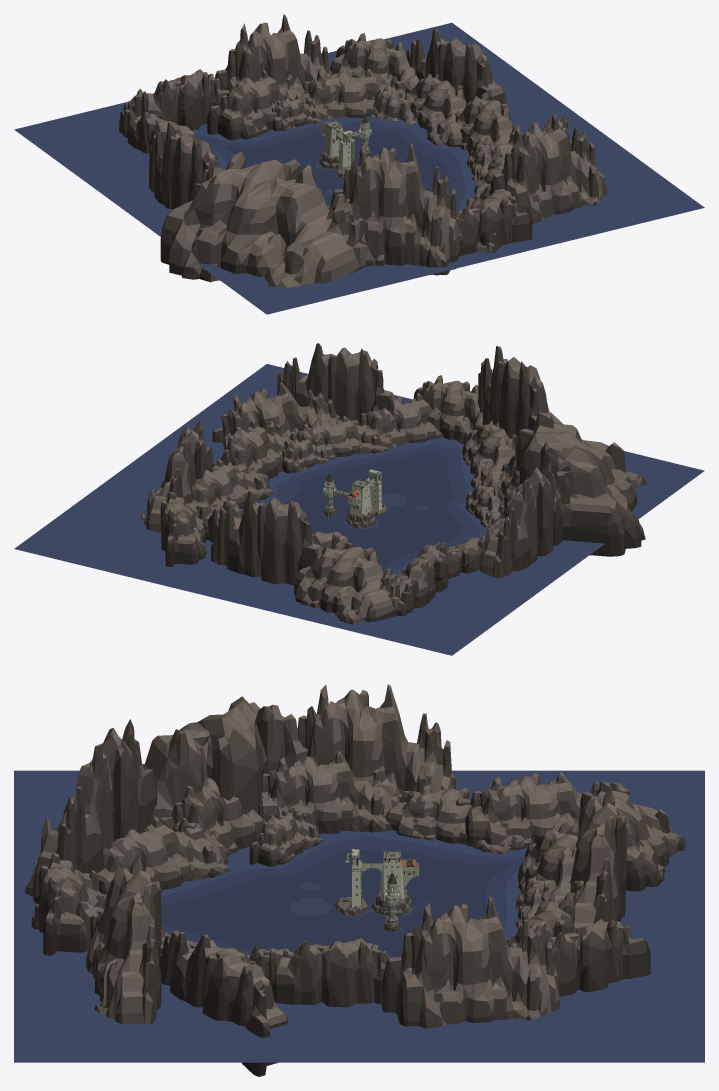
Rendered from narrowTowersAlt.glb.
The picture shows the model from 3 angles, top to bottom: view 1: azimuth 30°, elevation 25°; view 2: azimuth 150°, elevation 25°; view 3: azimuth 270°, elevation 25°; orthographic projection. The views are drawn at different scales.
Parts seen in each view (by area): view 1: water, Mball.024, Mball.027, Mball.018, Mball.006, Mball.052, Mball.015, Mball.009, Mball.011, Mball.002, Mball.025, Mball.013 (+8 smaller); view 2: water, Mball.024, Mball.006, Mball.011, Mball.018, Mball.009, Mball.027, Mball.022, Mball.015, Mball.014, Mball.025, Mball.019 (+10 smaller); view 3: water, Mball.015, Mball.024, Mball.009, Mball.027, Mball.018, Mball.022, Mball.001, Mball.019, Mball.010, Mball.006, Mball.026 (+10 smaller).
Part boxes in pixels (x1,y1,x2,y2): water: (14,22,704,314); Mball.024: (160,151,367,287); Mball.027: (330,143,459,275); Mball.018: (489,113,607,223); Mball.006: (215,14,332,94); Mball.052: (207,69,308,140); Mball.015: (406,29,506,104); Mball.009: (149,122,218,209); Mball.011: (123,69,229,130); Mball.002: (303,69,406,119); Mball.025: (457,198,532,255); Mball.013: (404,73,466,147); water: (14,364,704,655); Mball.024: (516,412,647,556); Mball.006: (211,491,322,585); Mball.011: (294,540,400,624); Mball.018: (277,343,394,420); Mball.009: (480,461,561,578); Mball.027: (478,346,553,438); Mball.022: (212,382,340,450); Mball.015: (141,421,213,532); Mball.014: (351,393,444,448); Mball.025: (413,375,482,444); Mball.019: (213,420,292,481); water: (14,770,704,1062); Mball.015: (382,896,560,1028); Mball.024: (63,696,307,823); Mball.009: (297,684,456,800); Mball.027: (25,719,157,903); Mball.018: (85,855,161,1024); Mball.022: (159,930,288,1076); Mball.001: (258,751,399,833); Mball.019: (250,938,387,1007); Mball.010: (455,772,599,848); Mball.006: (564,788,626,931); Mball.026: (97,816,229,894).
Size of what is drawn, in the model's own units: 548 by 158 by 528.
